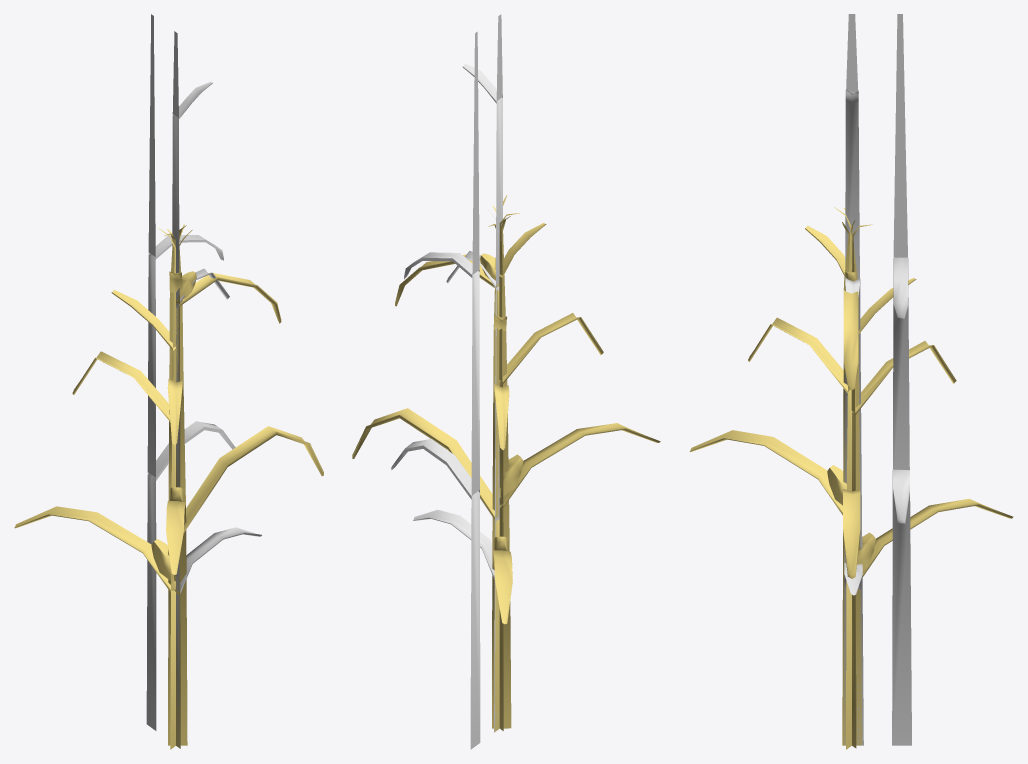
File: Adventure-Mais-farbig.fbx
The picture shows the model from 3 angles, left to right: view 1: azimuth 30°, elevation 25°; view 2: azimuth 150°, elevation 25°; view 3: azimuth 270°, elevation 25°; orthographic projection. The views are drawn at different scales.
Visible parts, largest first — view 1: Polygon_3, Polygon_2, Polygon, Polygon_1, Polygon_2_2; view 2: Polygon_3, Polygon, Polygon_2, Polygon_1, Polygon_2_2; view 3: Polygon_3, Polygon_1, Polygon_2, Polygon_2_2, Polygon.
Part boxes in pixels (x1,y1,x2,y2): Polygon_3: (146,14,235,730); Polygon_2: (164,225,187,745); Polygon: (14,228,176,749); Polygon_1: (175,224,323,748); Polygon_2_2: (172,31,261,747); Polygon_3: (391,31,480,749); Polygon: (488,216,512,728); Polygon_2: (499,195,660,730); Polygon_1: (352,206,500,731); Polygon_2_2: (413,14,502,732); Polygon_3: (892,14,911,745); Polygon_1: (842,220,862,745); Polygon_2: (689,207,851,749); Polygon_2_2: (844,14,863,745); Polygon: (851,224,1013,748).
Bounding box in the file's own units: 27.18 × 80.38 × 32.3.
